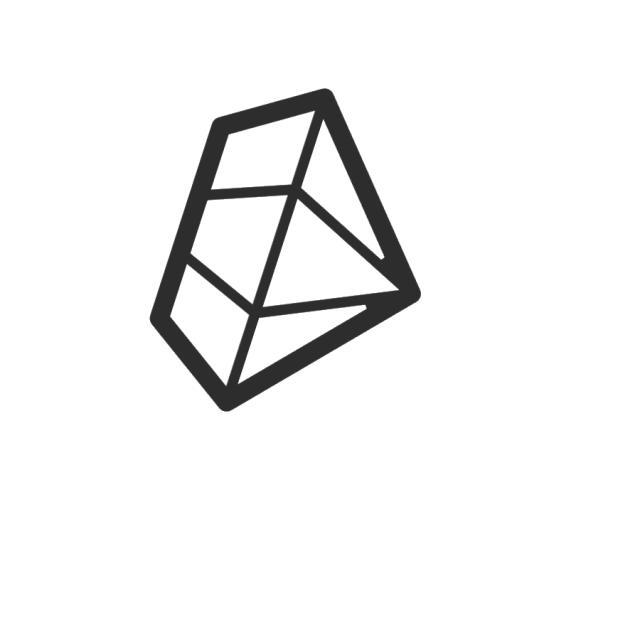diamond: (143, 82, 429, 421)
